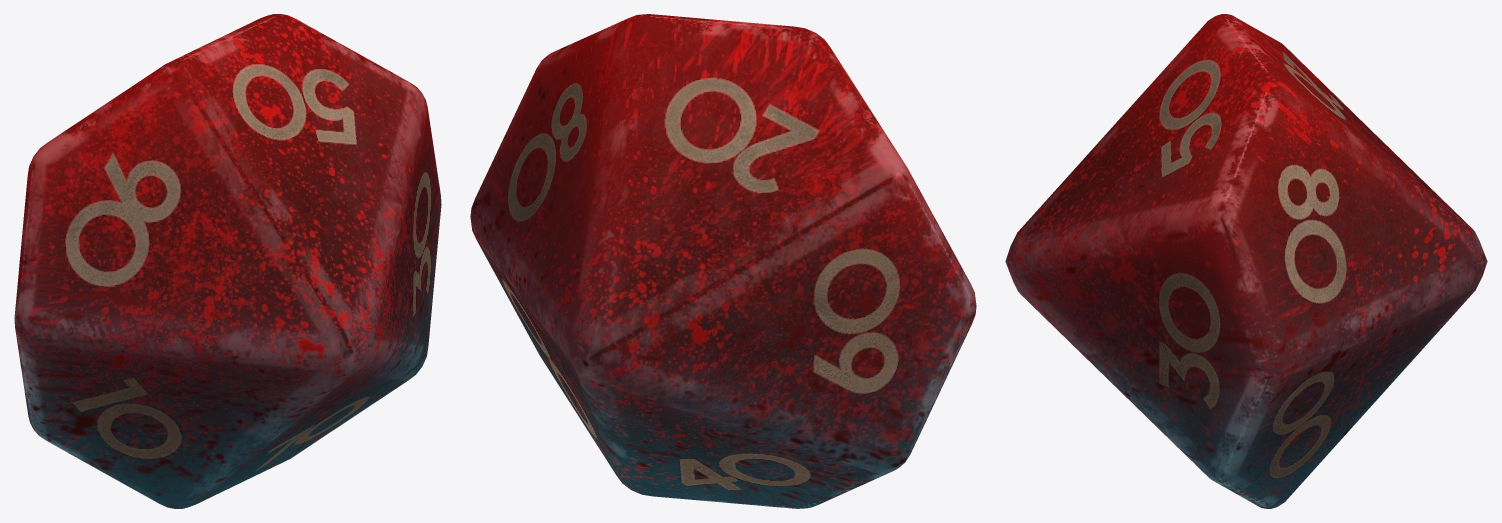
File: TPK_d100.gltf
The picture shows the model from 3 angles, left to right: view 1: azimuth 30°, elevation 25°; view 2: azimuth 150°, elevation 25°; view 3: azimuth 270°, elevation 25°; orthographic projection. The views are drawn at different scales.
Visible parts, largest first — view 1: dice_100; view 2: dice_100; view 3: dice_100.
Boxes of the visible parts, bbox=[...] form: dice_100: bbox=[14, 14, 441, 508]; dice_100: bbox=[470, 14, 976, 508]; dice_100: bbox=[1005, 14, 1487, 508].
Size of the model in its own units: 171 by 164 by 165.
Materials: 1 (1 with a texture image).
